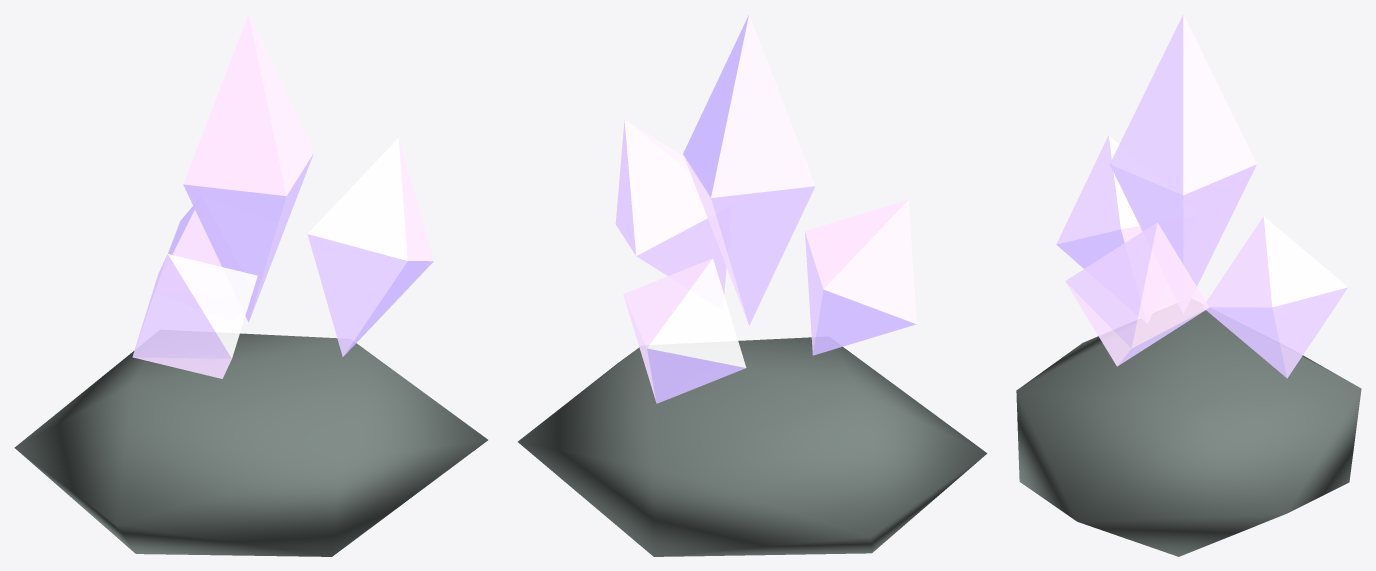
File: stage1_crystal.glb
3 renders of one model, left to right at view 1: azimuth 30°, elevation 25°; view 2: azimuth 150°, elevation 25°; view 3: azimuth 270°, elevation 25°, orthographic. The views are drawn at different scales.
Visible parts, largest first — view 1: stage1_crystal_stone2, glow_crystalGlow; view 2: stage1_crystal_stone2, glow_crystalGlow; view 3: stage1_crystal_stone2, glow_crystalGlow.
Boxes of the visible parts, x1,y1,x2,y2 form: stage1_crystal_stone2: [14, 333, 487, 556]; glow_crystalGlow: [132, 14, 433, 378]; stage1_crystal_stone2: [518, 337, 987, 556]; glow_crystalGlow: [615, 14, 916, 403]; stage1_crystal_stone2: [1016, 310, 1361, 556]; glow_crystalGlow: [1056, 14, 1347, 378].
Bounding box in the file's own units: 0.4506 × 0.5924 × 0.3747.
